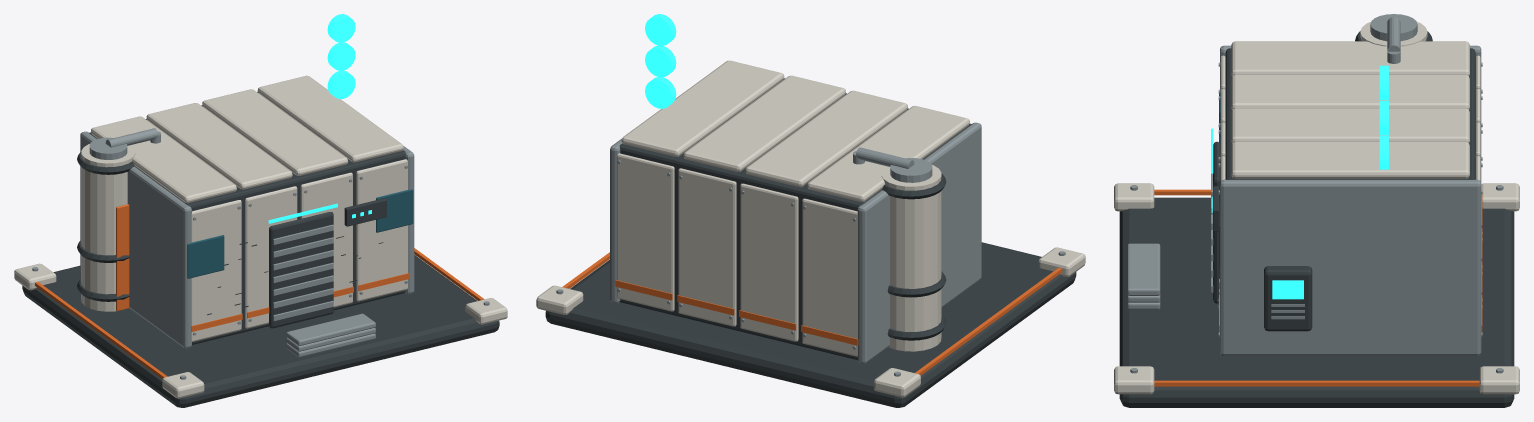
The model's file is SM_CalibrationCenter_Body.002.fbx.
3 views of the same model, side by side, from view 1: azimuth 30°, elevation 25°; view 2: azimuth 150°, elevation 25°; view 3: azimuth 270°, elevation 25° (orthographic). The views are drawn at different scales.
Visible parts, largest first — view 1: SM_CalibrationCenter_Body.002; view 2: SM_CalibrationCenter_Body.002; view 3: SM_CalibrationCenter_Body.002.
Boxes of the visible parts, x1,y1,x2,y2 form: SM_CalibrationCenter_Body.002: [14, 14, 507, 407]; SM_CalibrationCenter_Body.002: [536, 14, 1085, 407]; SM_CalibrationCenter_Body.002: [1114, 14, 1519, 407].
Bounding box in the file's own units: 492 × 422 × 358.
